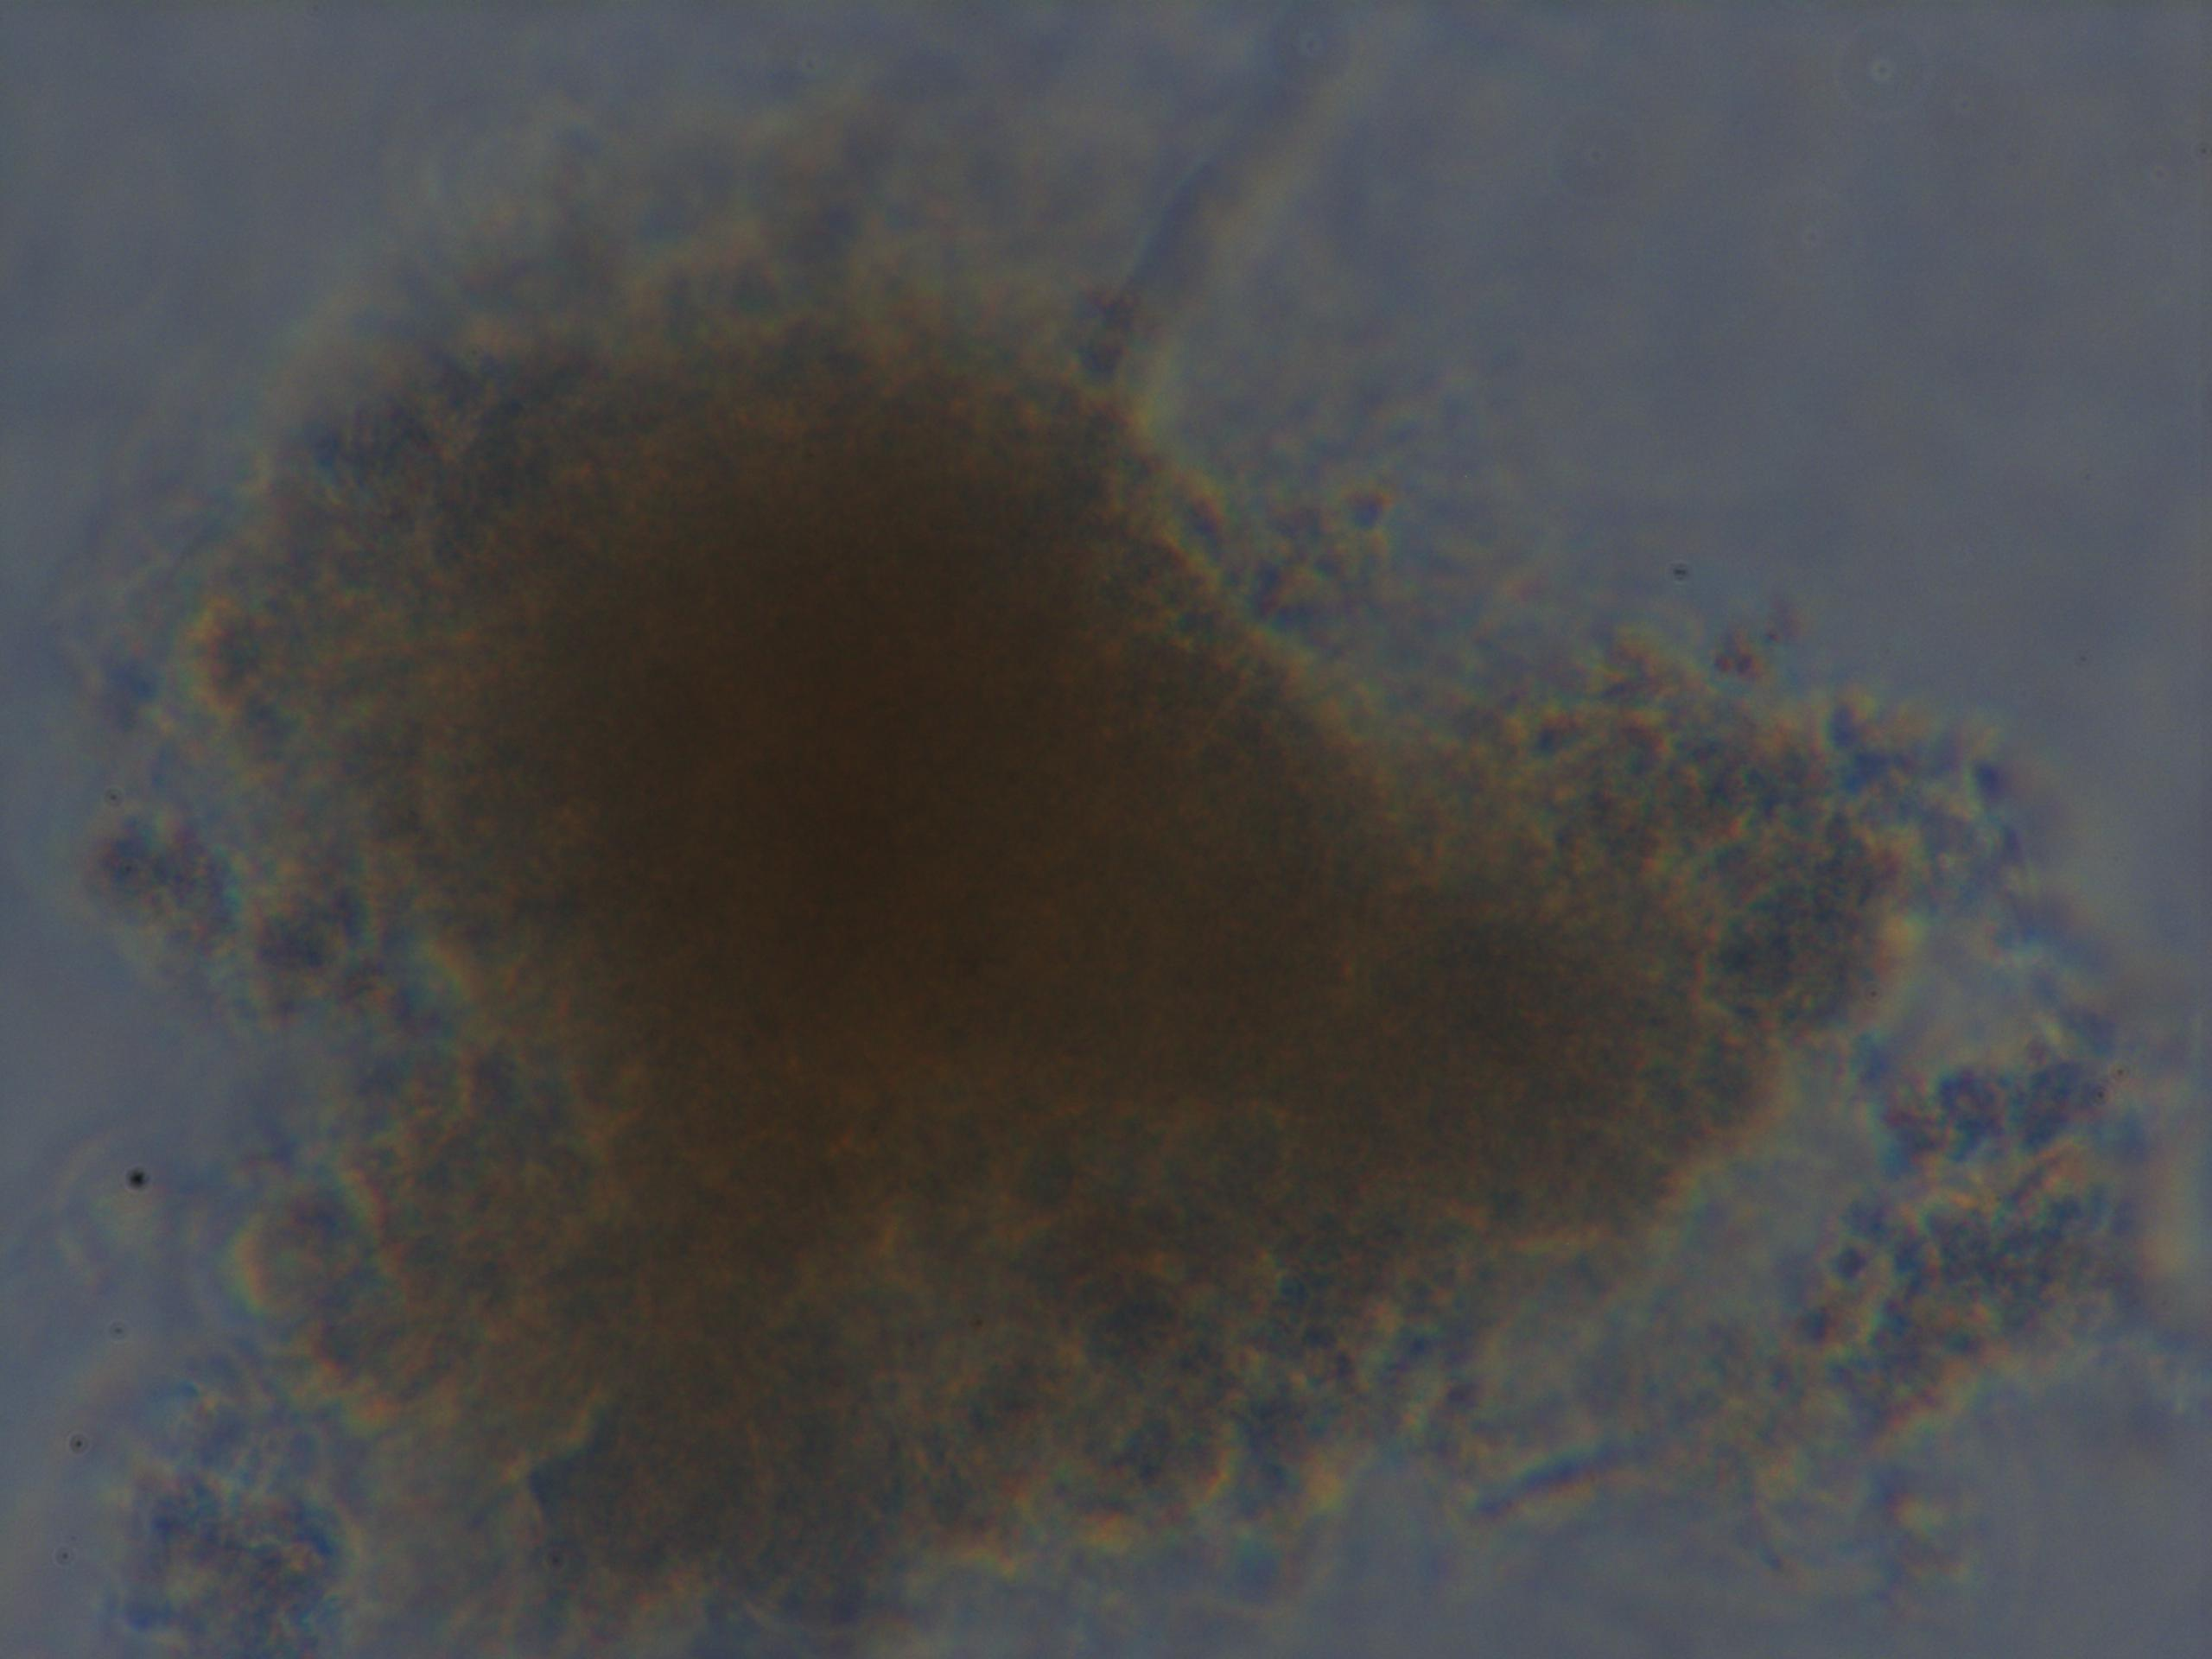spherical_floc: (200, 223, 1914, 1643)
